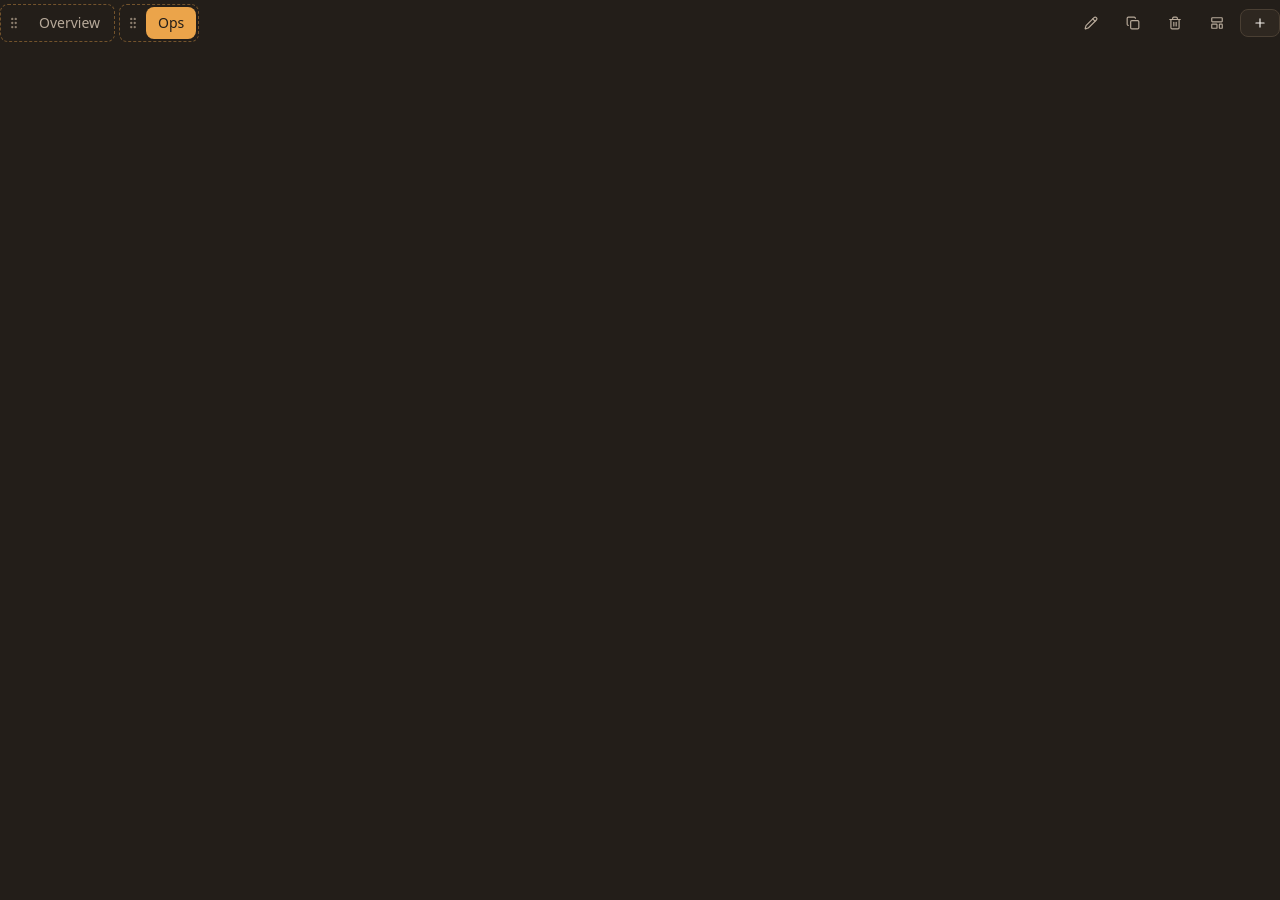
Test: DashboardViewTabs › deletes the active view only after confirmation and never the last view
Click the button named "Delete view" at (1175, 23), box x1=1156 y1=10 x2=1194 y2=36
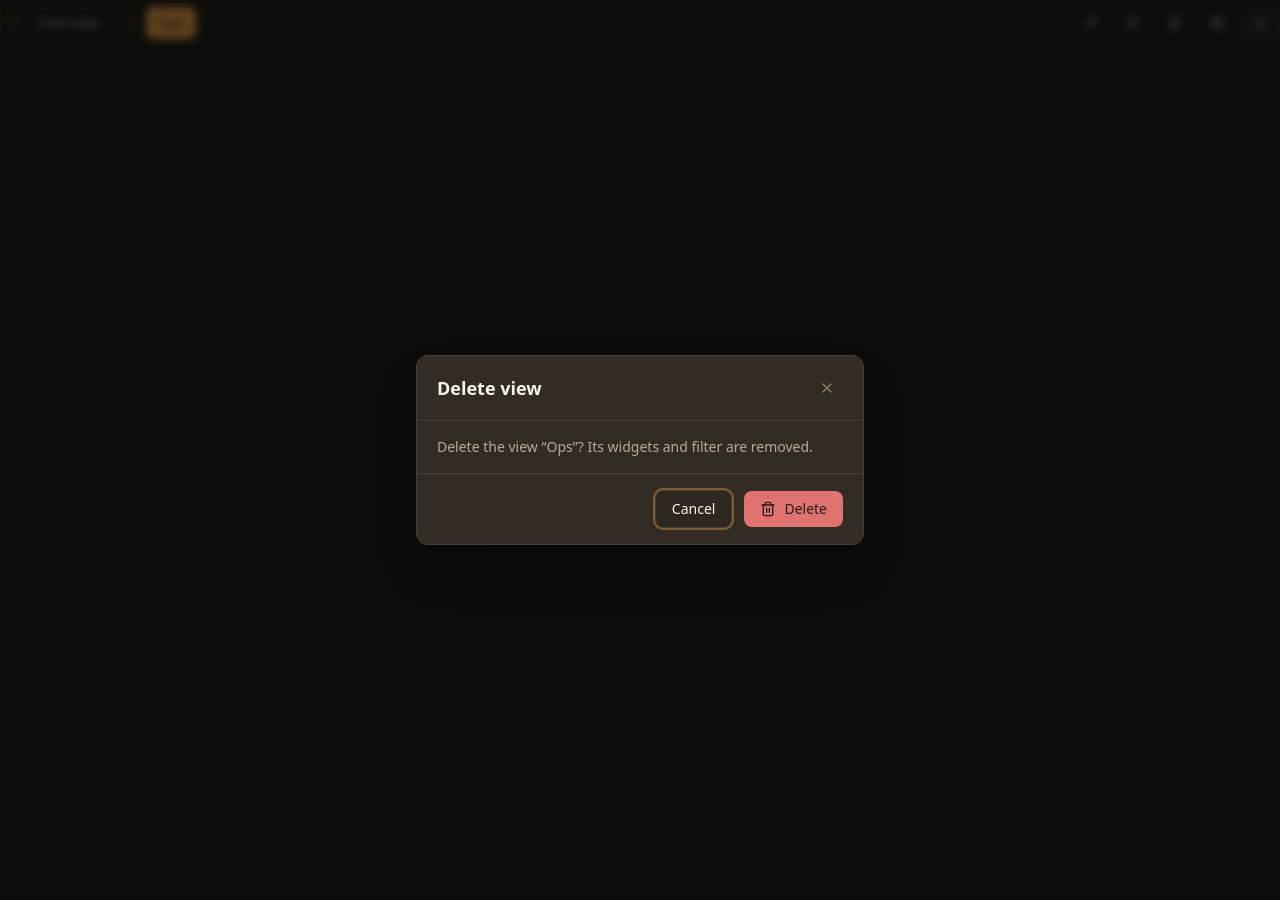
Expected: the text "Delete the view “Ops”? Its widgets and filter are removed." is shown, x1=437 y1=437 x2=843 y2=457
Click the button "Cancel" at (694, 509), box x1=655 y1=490 x2=732 y2=528
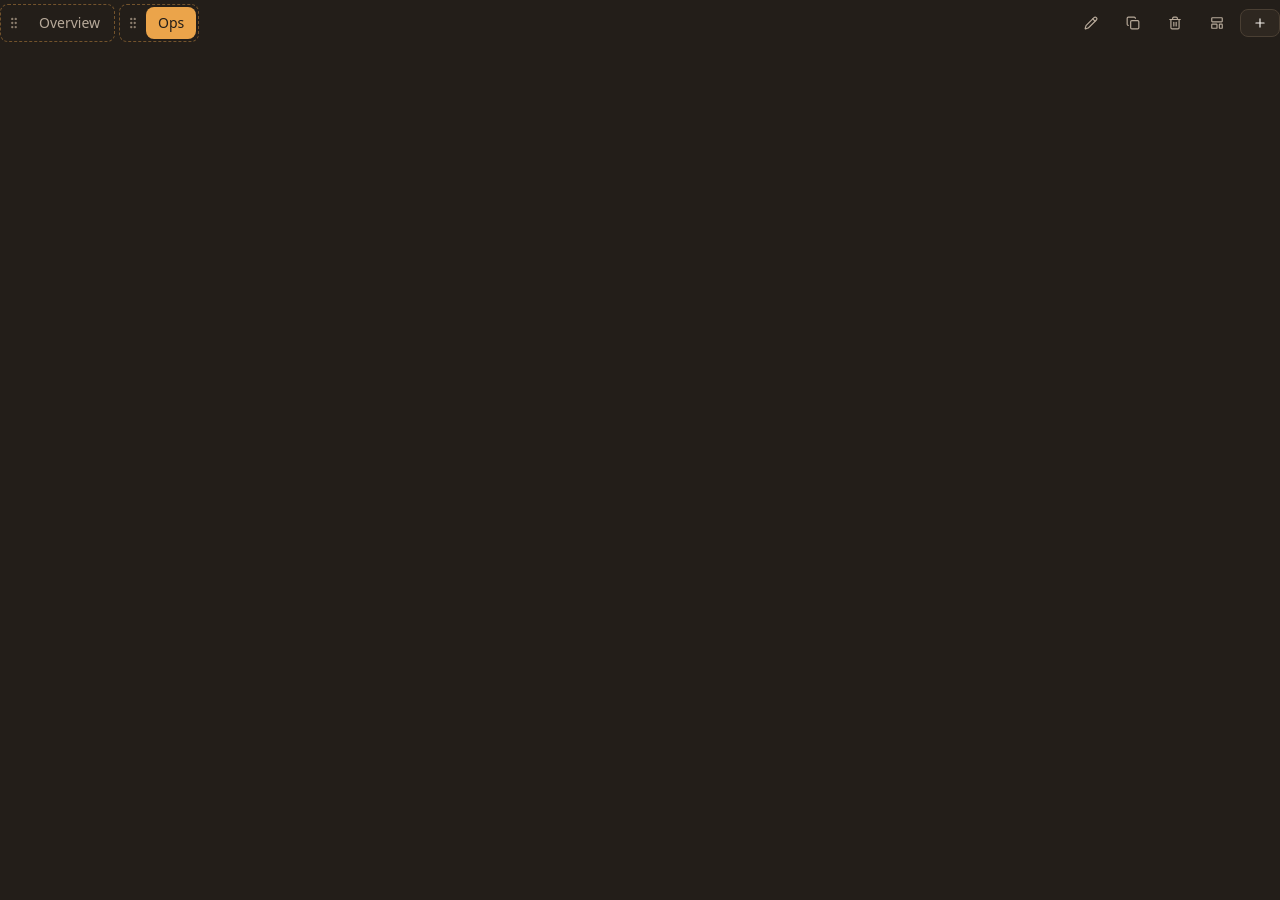
Expected: the dialog is gone
Click the button named "Delete view" at (1175, 23), box x1=1156 y1=10 x2=1194 y2=36
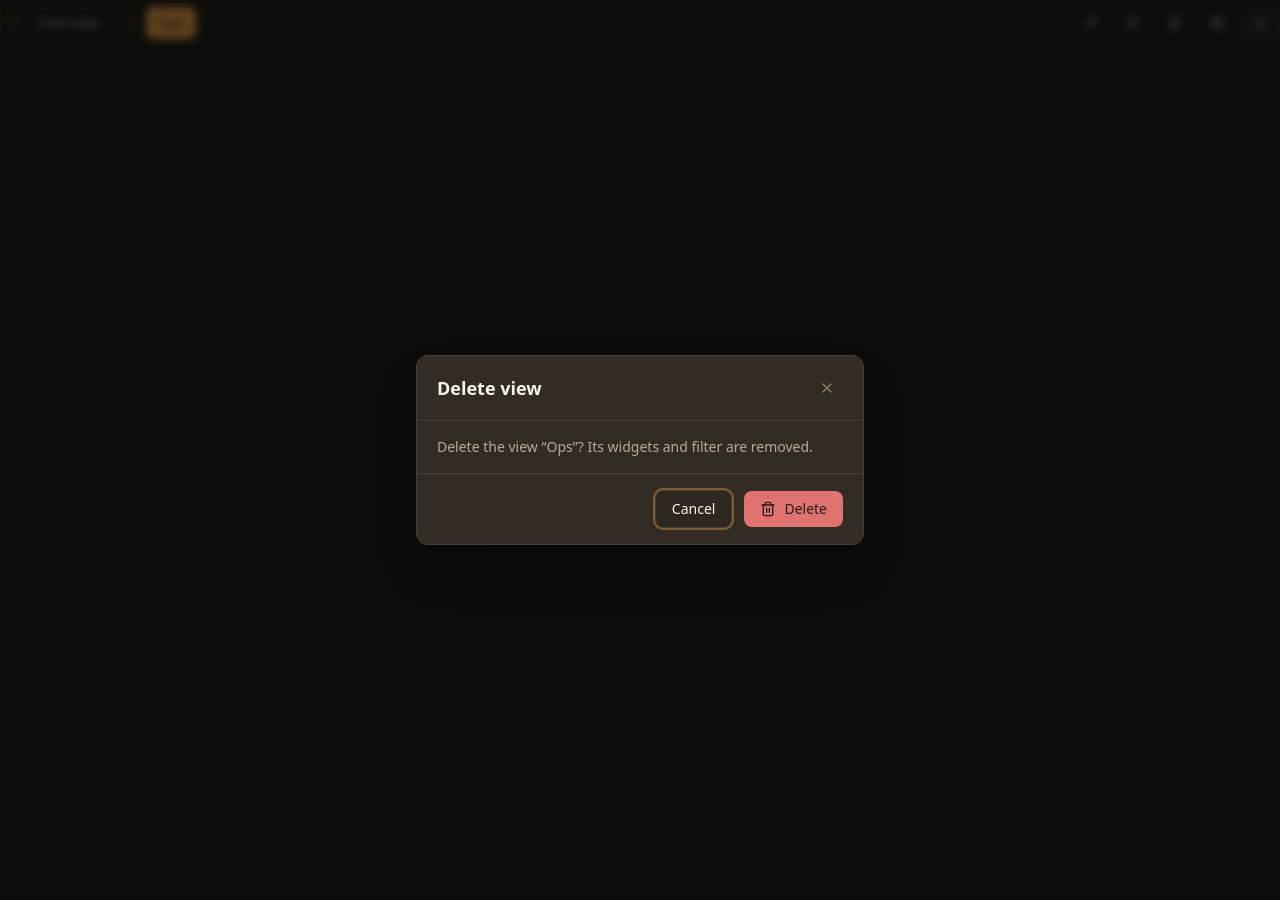
Click the button "Delete" at (794, 509), box x1=744 y1=491 x2=843 y2=527
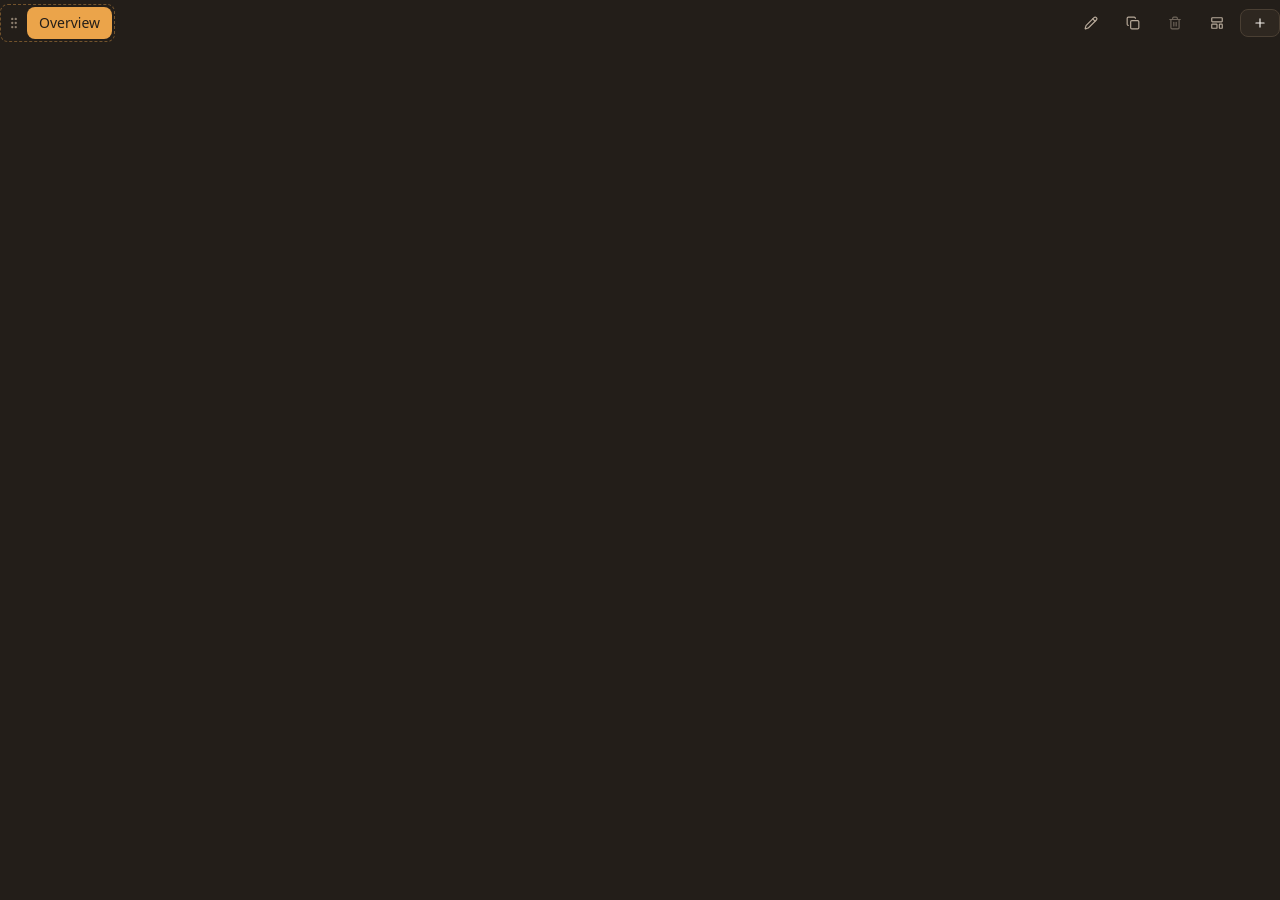
Expected: the dialog is gone
Expected: the button named "Delete view" is disabled, x1=1156 y1=10 x2=1194 y2=36
